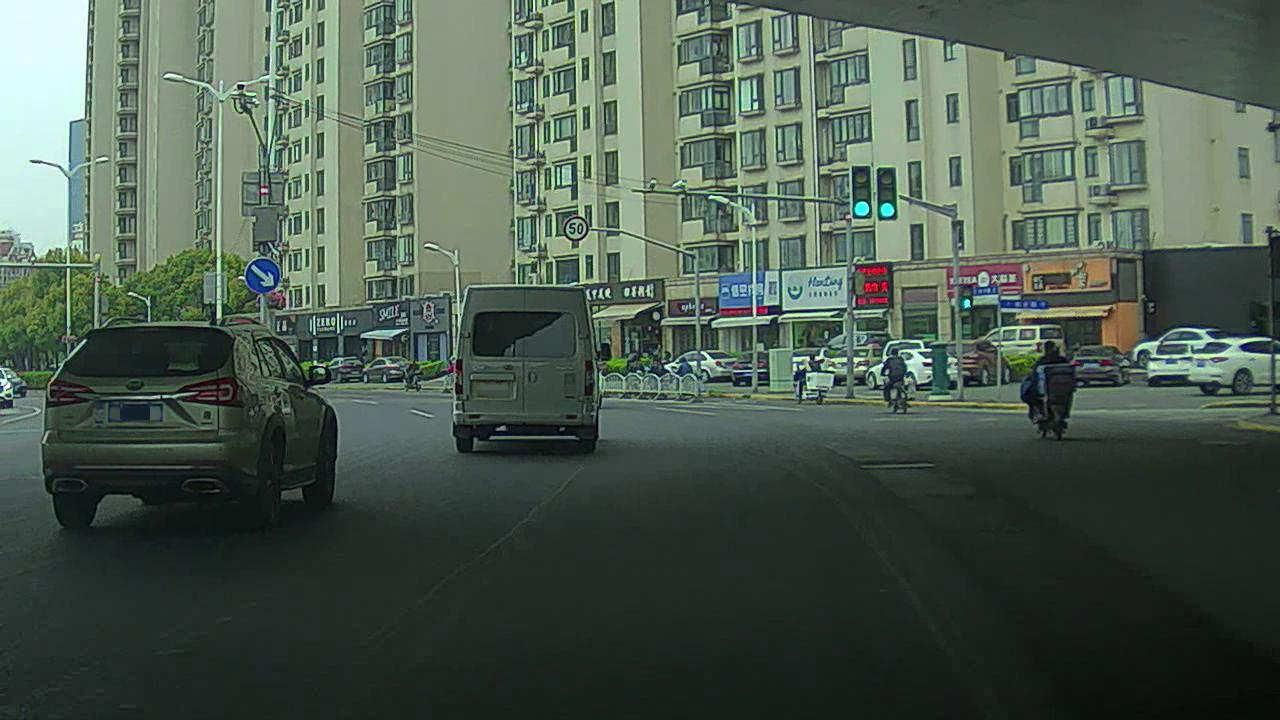traffic_light: (874, 162, 902, 222), (853, 162, 874, 221)
